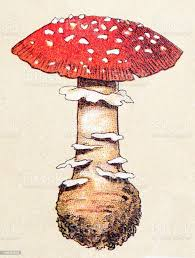Amanita muscaria: (6, 12, 184, 202)
